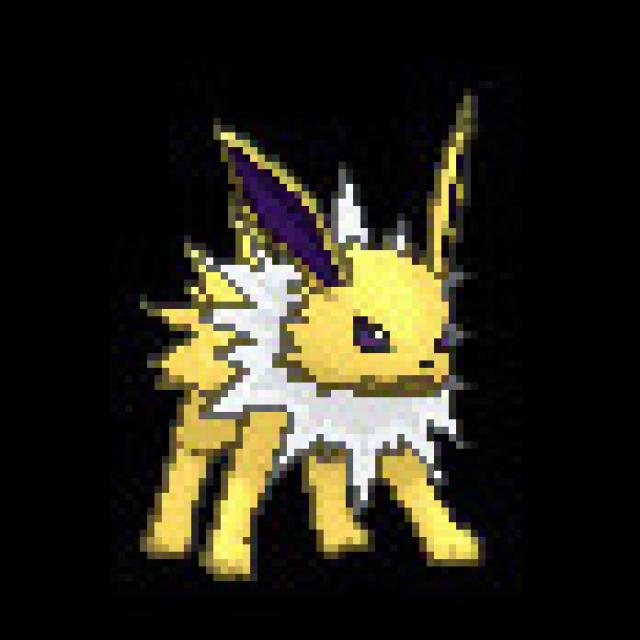Jolteon: (161, 120, 474, 574)
